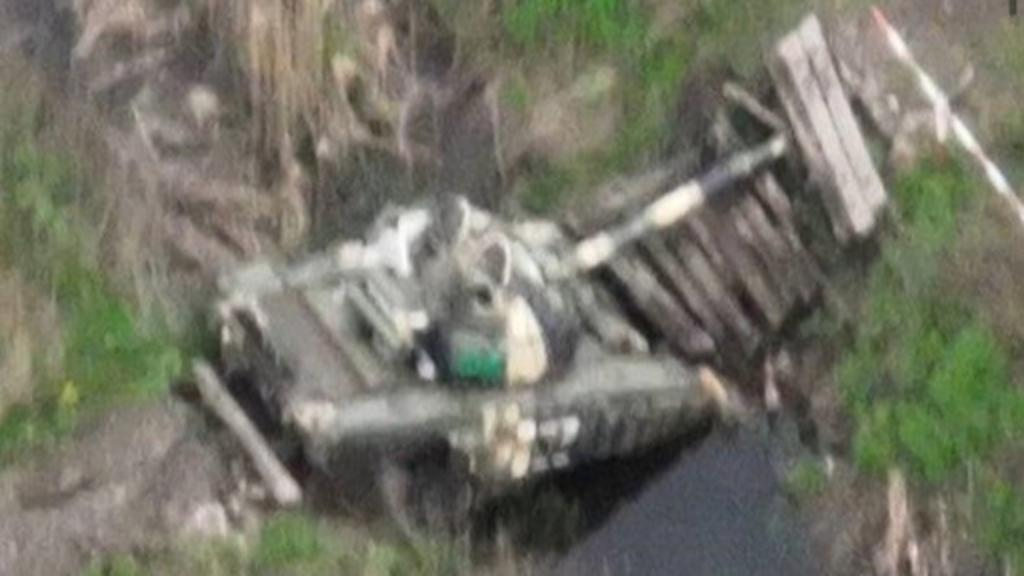TANK: (210, 132, 794, 528)
